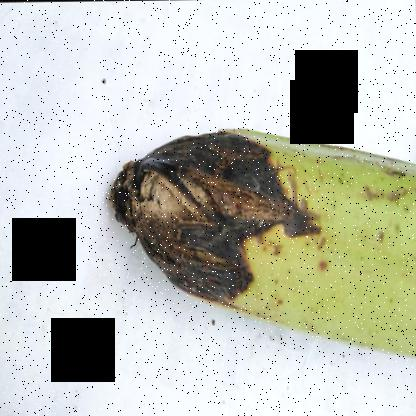rotten: (98, 120, 306, 302)
unripe: (275, 108, 416, 396)
